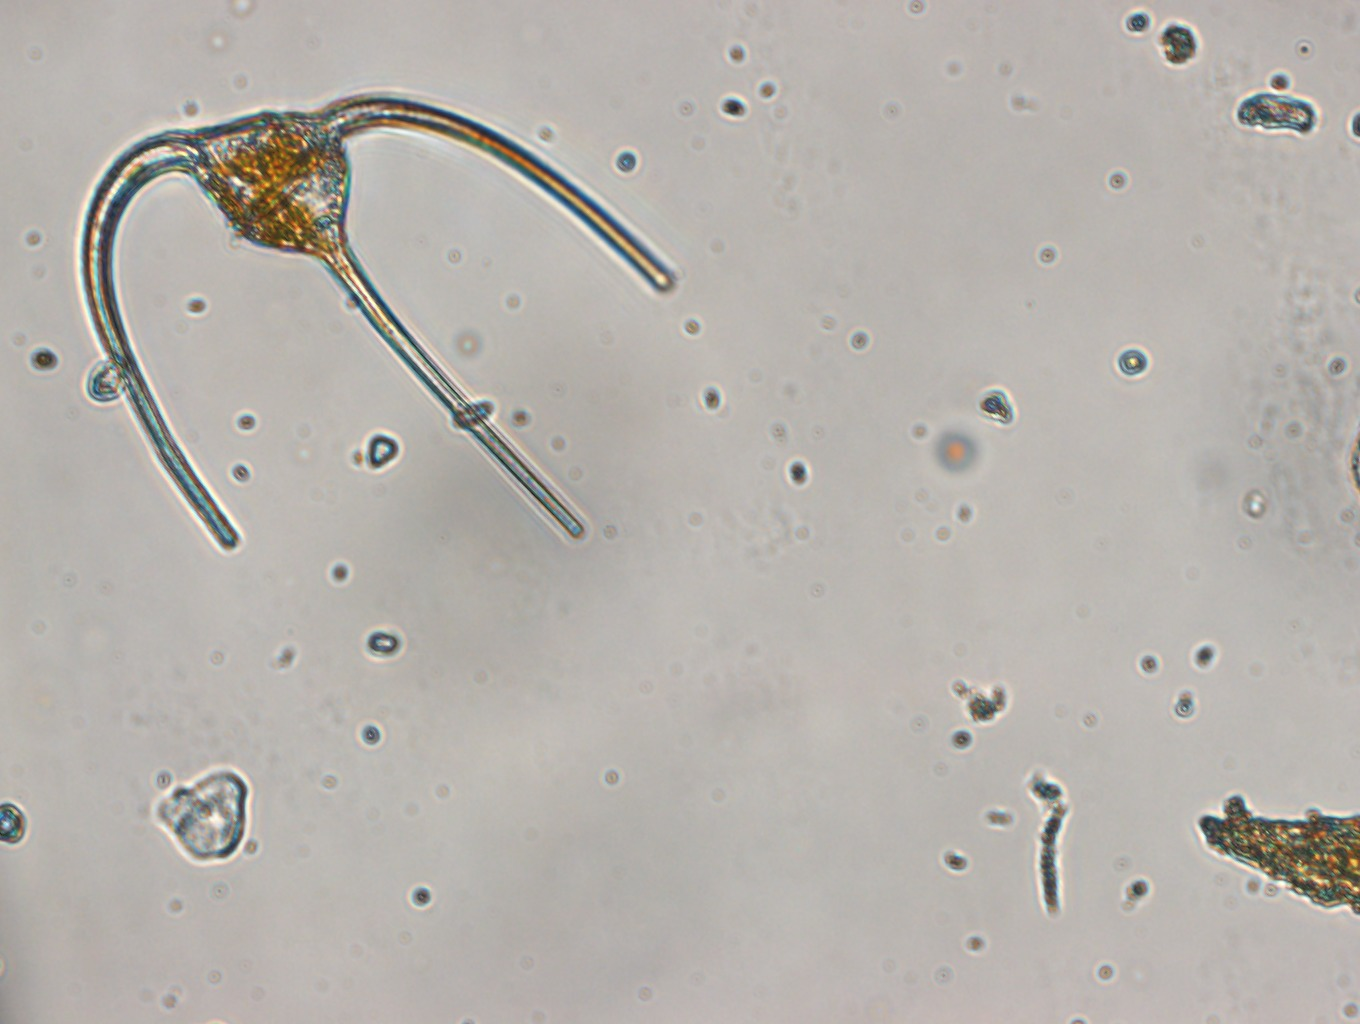ceratium trichoceros: (78, 86, 674, 552)
